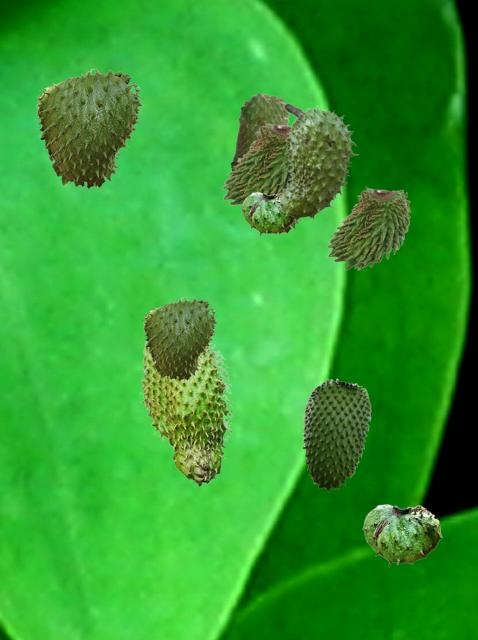guyabano: (139, 342, 233, 486), (36, 68, 143, 191), (276, 103, 358, 222), (302, 378, 370, 491), (326, 185, 410, 269), (221, 120, 291, 213), (143, 297, 217, 382), (362, 504, 441, 566), (230, 92, 289, 170), (241, 192, 293, 235), (271, 219, 302, 235)
